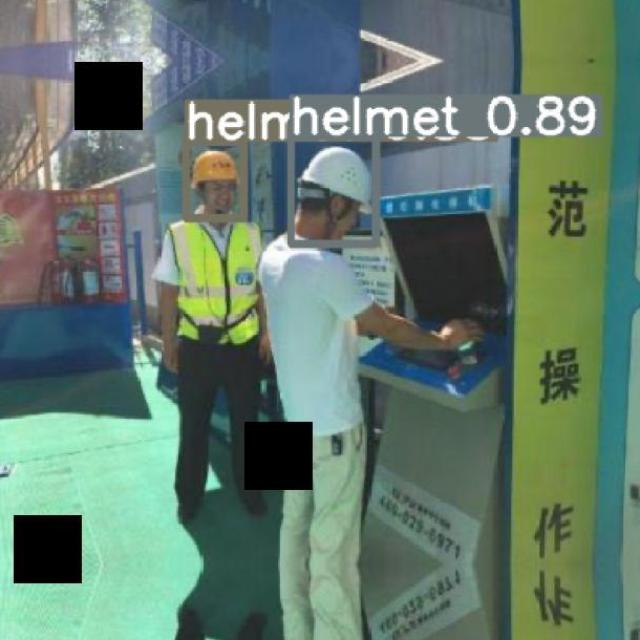helmet: (296, 145, 372, 214), (189, 150, 238, 189)
